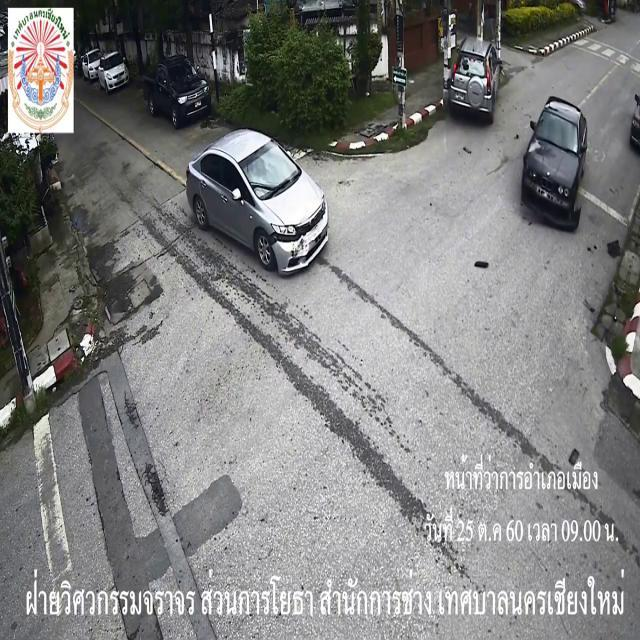multiple_accident: (147, 115, 353, 311), (489, 0, 602, 237)
